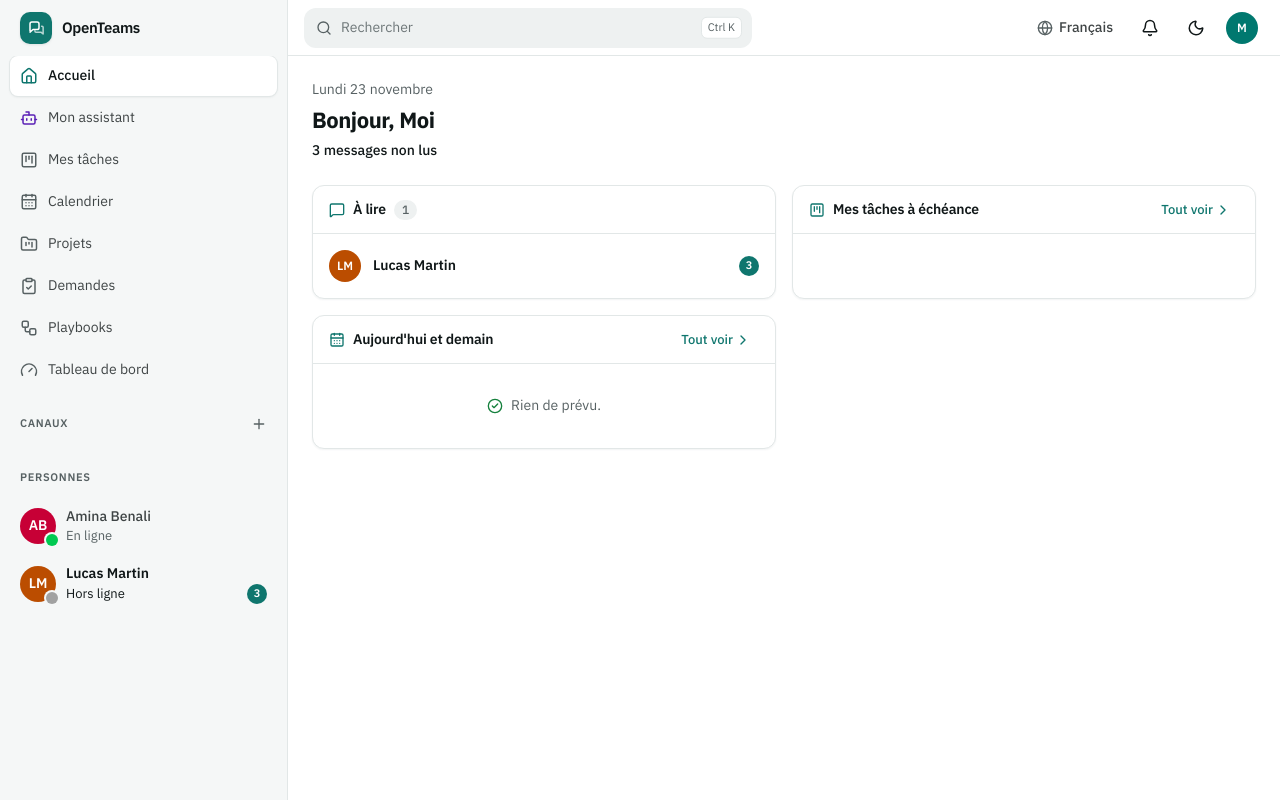
manager dashboard shows workload, finished vs planned and delays
This screenshot has width=1280, height=800.
Click the button "Tableau de bord". click: (144, 370)
box: [10,350,277,390]
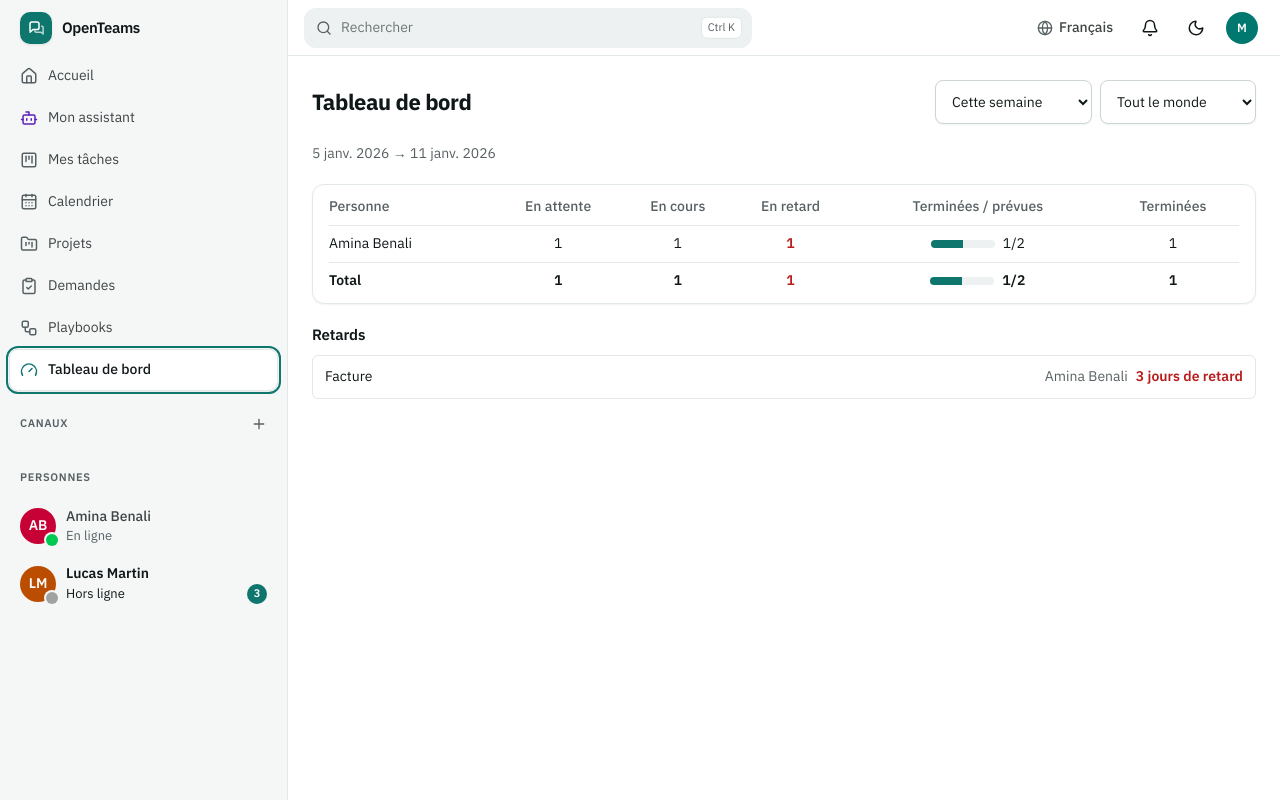
Expected: the element named "1 terminées sur 2 prévues" is shown, [931,234,1025,254]
Expected: the button "Facture Amina Benali 3 jours de retard" is shown, [312,354,1256,398]
